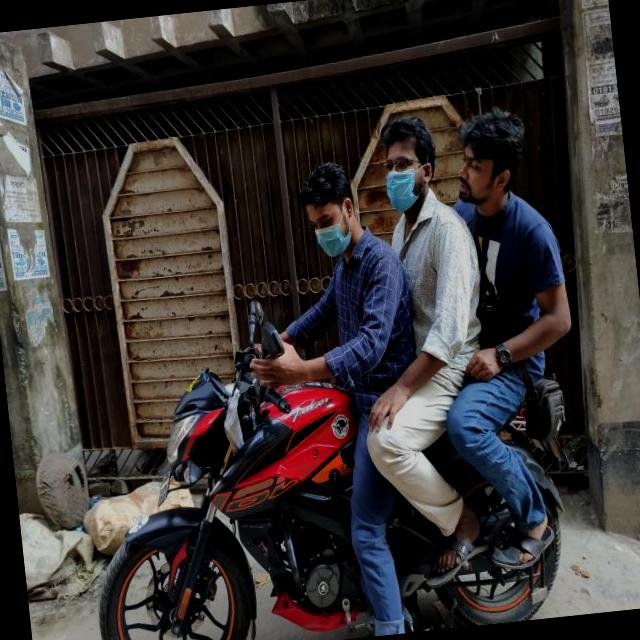motorcycle: (61, 308, 589, 640)
person: (429, 101, 592, 464), (369, 100, 507, 472), (280, 144, 420, 486)
